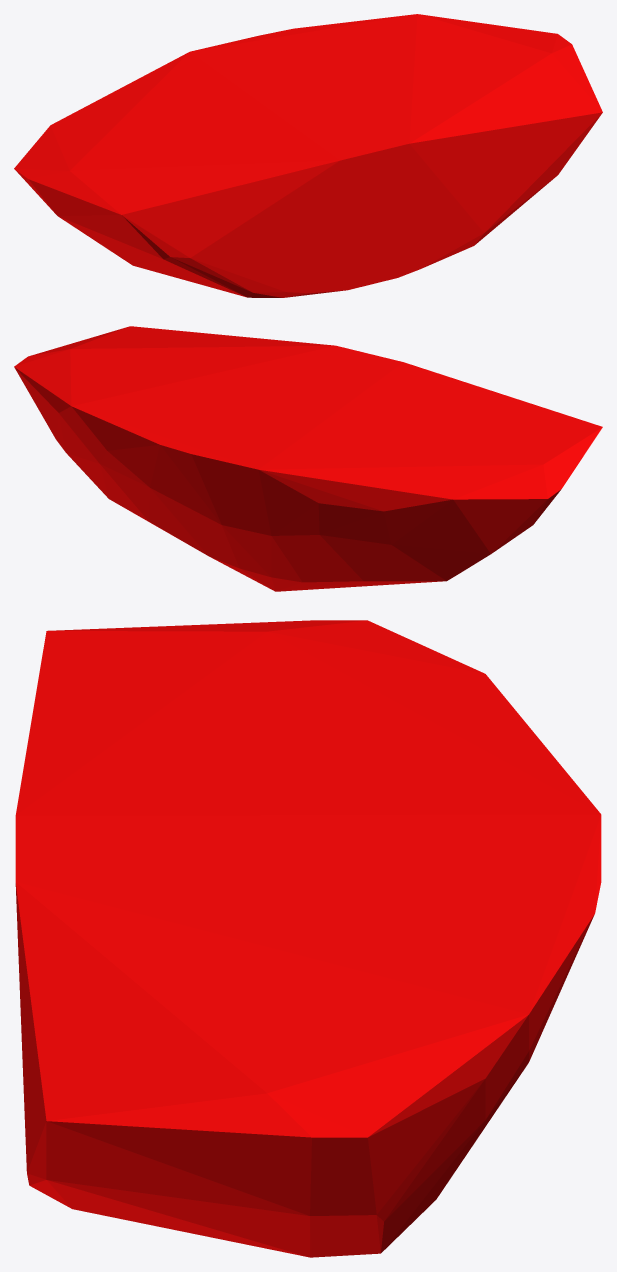
The model's file is tip_006_2_convex_hull_00.obj.
The picture shows the model from 3 angles, top to bottom: view 1: azimuth 30°, elevation 25°; view 2: azimuth 150°, elevation 25°; view 3: azimuth 270°, elevation 25°; orthographic projection. The views are drawn at different scales.
Parts seen in each view (by area): view 1: tip_006_2_convex_hull_00; view 2: tip_006_2_convex_hull_00; view 3: tip_006_2_convex_hull_00.
Part boxes in pixels (left/top/right/bottom): tip_006_2_convex_hull_00: left=14, top=14, right=602, bottom=297; tip_006_2_convex_hull_00: left=14, top=326, right=602, bottom=591; tip_006_2_convex_hull_00: left=15, top=620, right=601, bottom=1257.
Bounding box in the file's own units: 0.00416 × 0.0013 × 0.00197.
